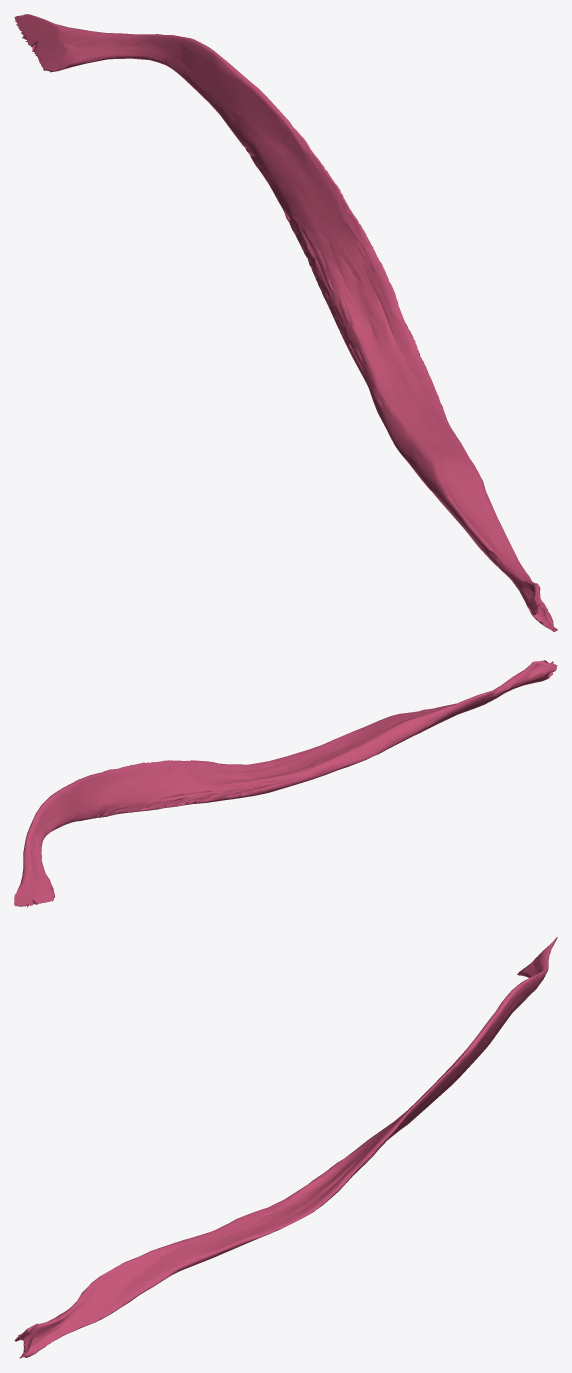
3 renders of one model, top to bottom at view 1: azimuth 30°, elevation 25°; view 2: azimuth 150°, elevation 25°; view 3: azimuth 330°, elevation 25°, orthographic. The views are drawn at different scales.
Visible parts, largest first — view 1: 右侧缝匠肌; view 2: 右侧缝匠肌; view 3: 右侧缝匠肌.
Boxes of the visible parts, x1,y1,x2,y2 form: 右侧缝匠肌: (14,14,557,631); 右侧缝匠肌: (14,660,557,907); 右侧缝匠肌: (14,937,557,1358).
Bounding box in the file's own units: 0.1521 × 0.1328 × 0.8829.
